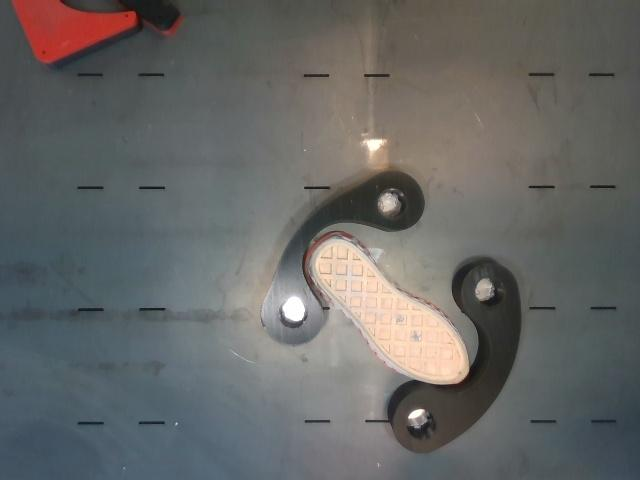shoes: (309, 238, 468, 383)
